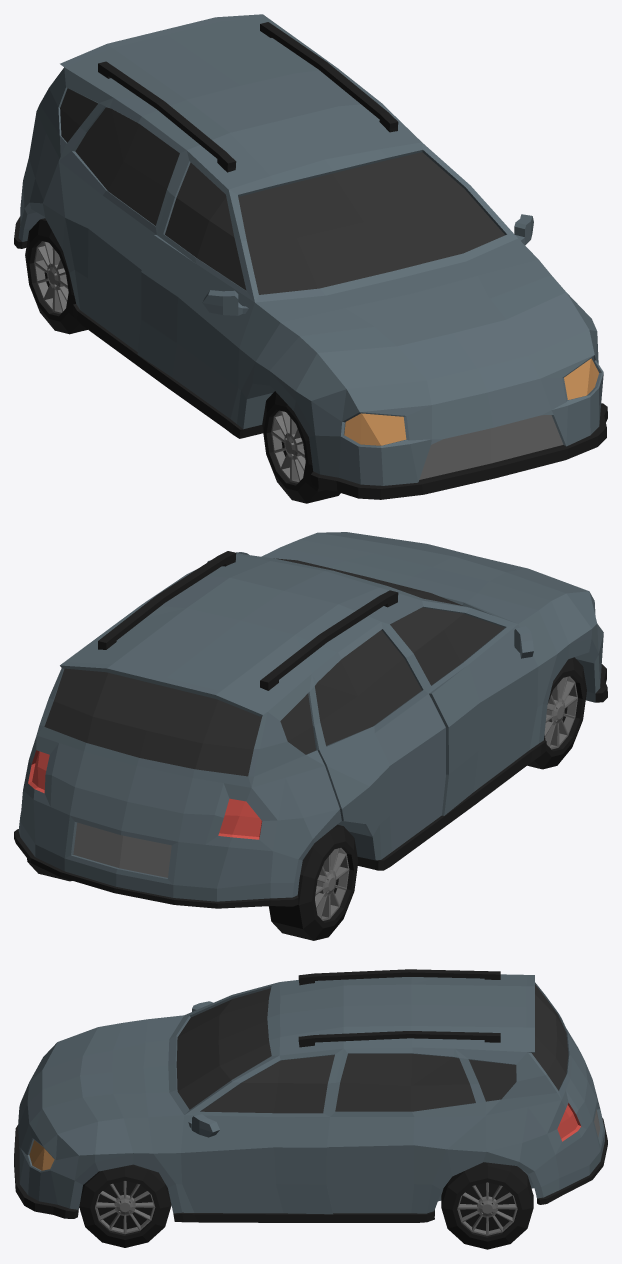
Rendered from suv-slate.glb.
The picture shows the model from 3 angles, top to bottom: view 1: azimuth 30°, elevation 25°; view 2: azimuth 150°, elevation 25°; view 3: azimuth 270°, elevation 25°; orthographic projection. The views are drawn at different scales.
Visible parts, largest first — view 1: SUV_Cube; view 2: SUV_Cube; view 3: SUV_Cube.
Boxes of the visible parts, x1,y1,x2,y2 form: SUV_Cube: (14, 14, 607, 503); SUV_Cube: (14, 532, 607, 940); SUV_Cube: (14, 969, 607, 1249).
Bounding box in the file's own units: 2.11 × 1.53 × 4.21.
